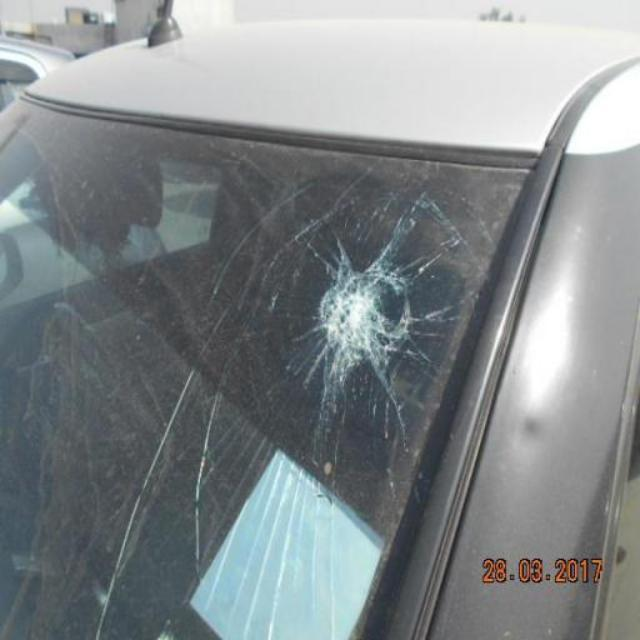glass shatter: (277, 200, 440, 419)
